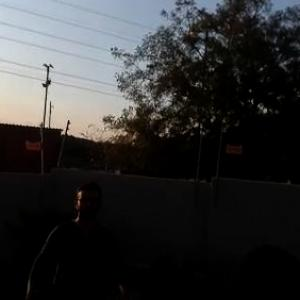follow: (20, 171, 136, 299)
